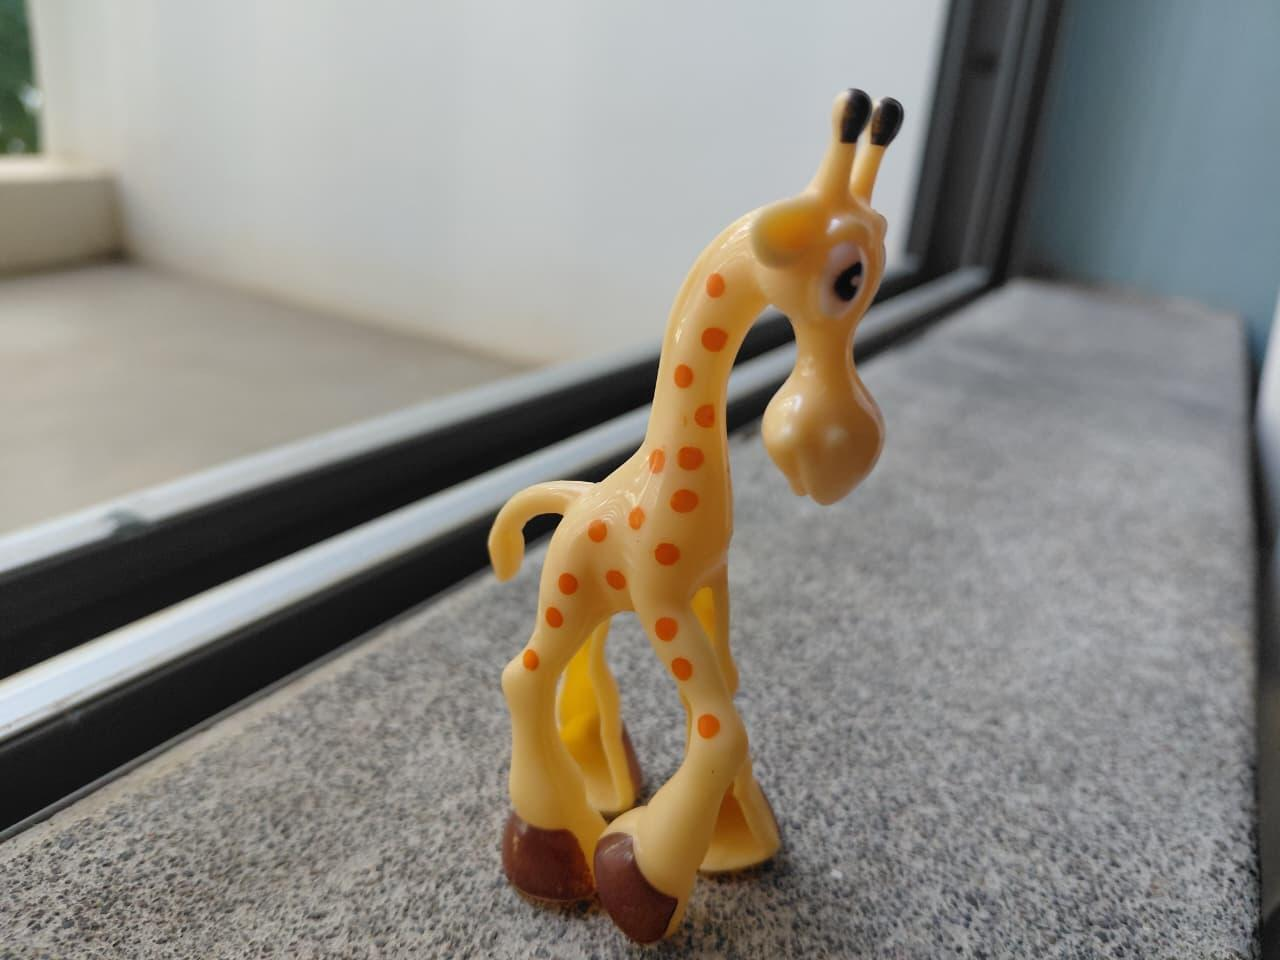giraffe: (430, 67, 948, 948)
